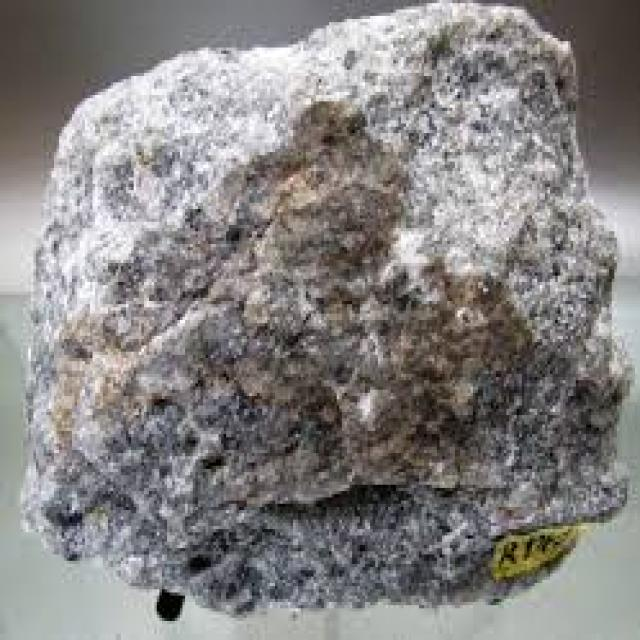Metamorphic: (18, 9, 627, 599)
